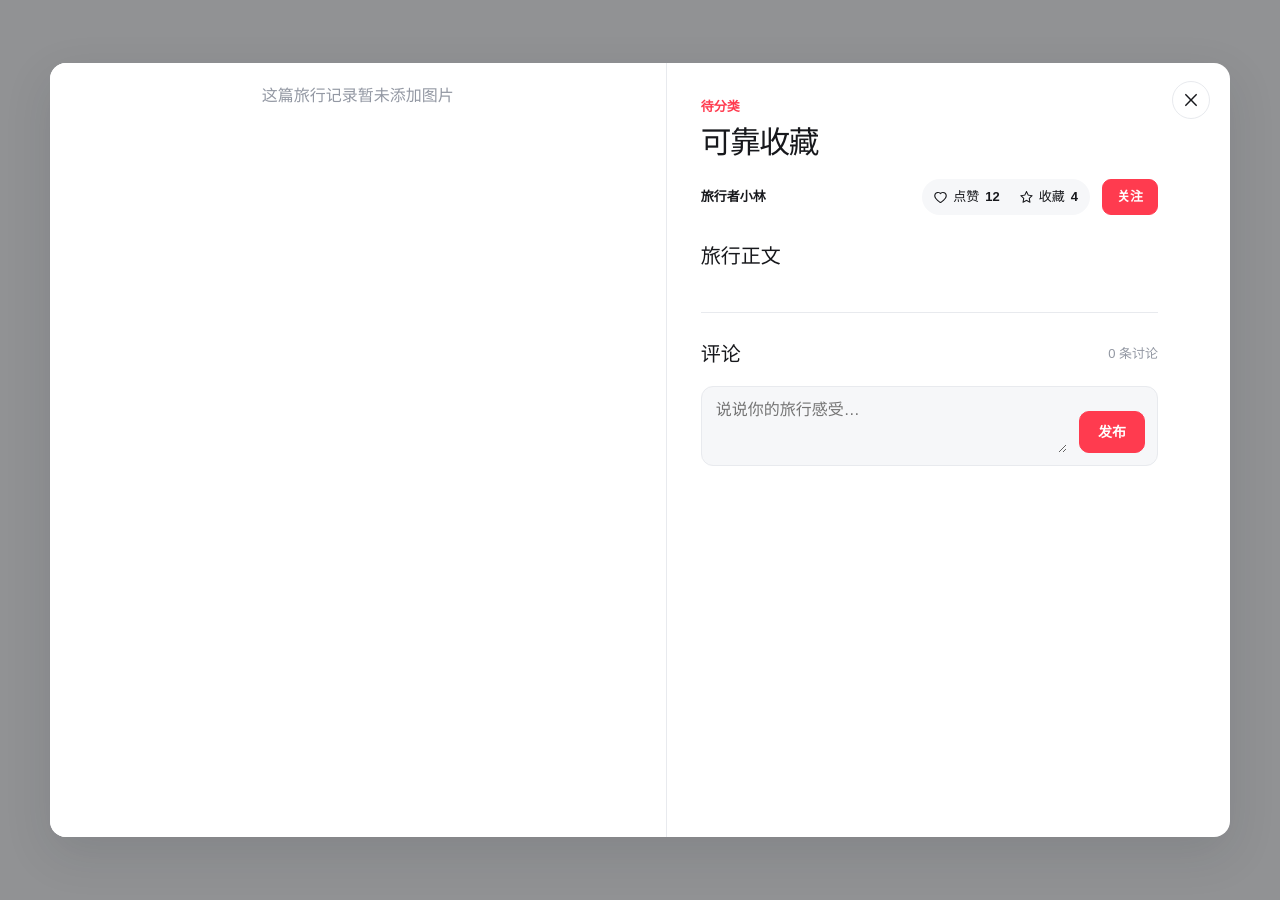
Test: 帖子详情 › 收藏成功后采用服务端确认状态和计数
Click the button with aria-label "收藏" at (1049, 197), box [1011,182,1087,212]
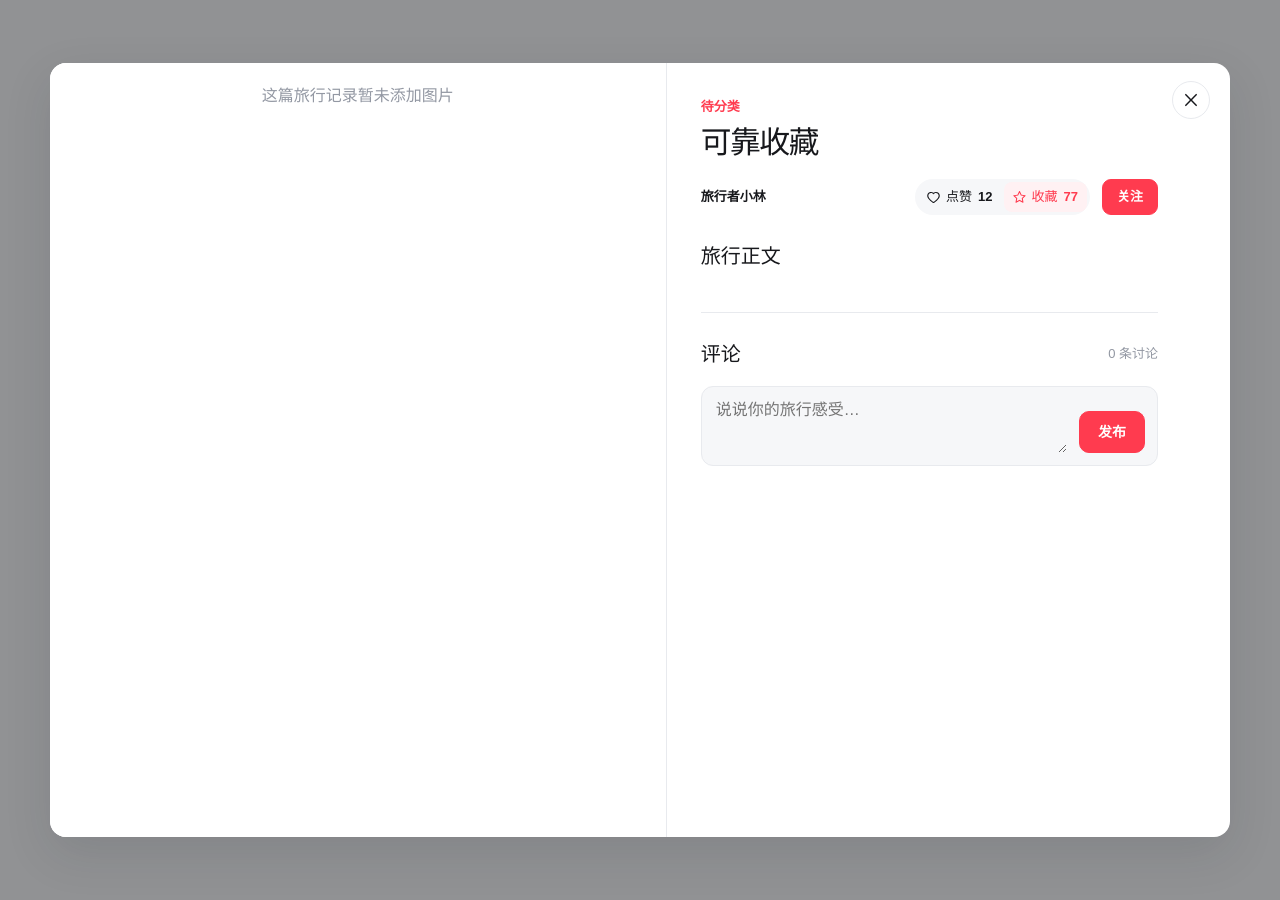
Expected: the button with aria-label "收藏" shows "77", [1004,182,1087,212]
